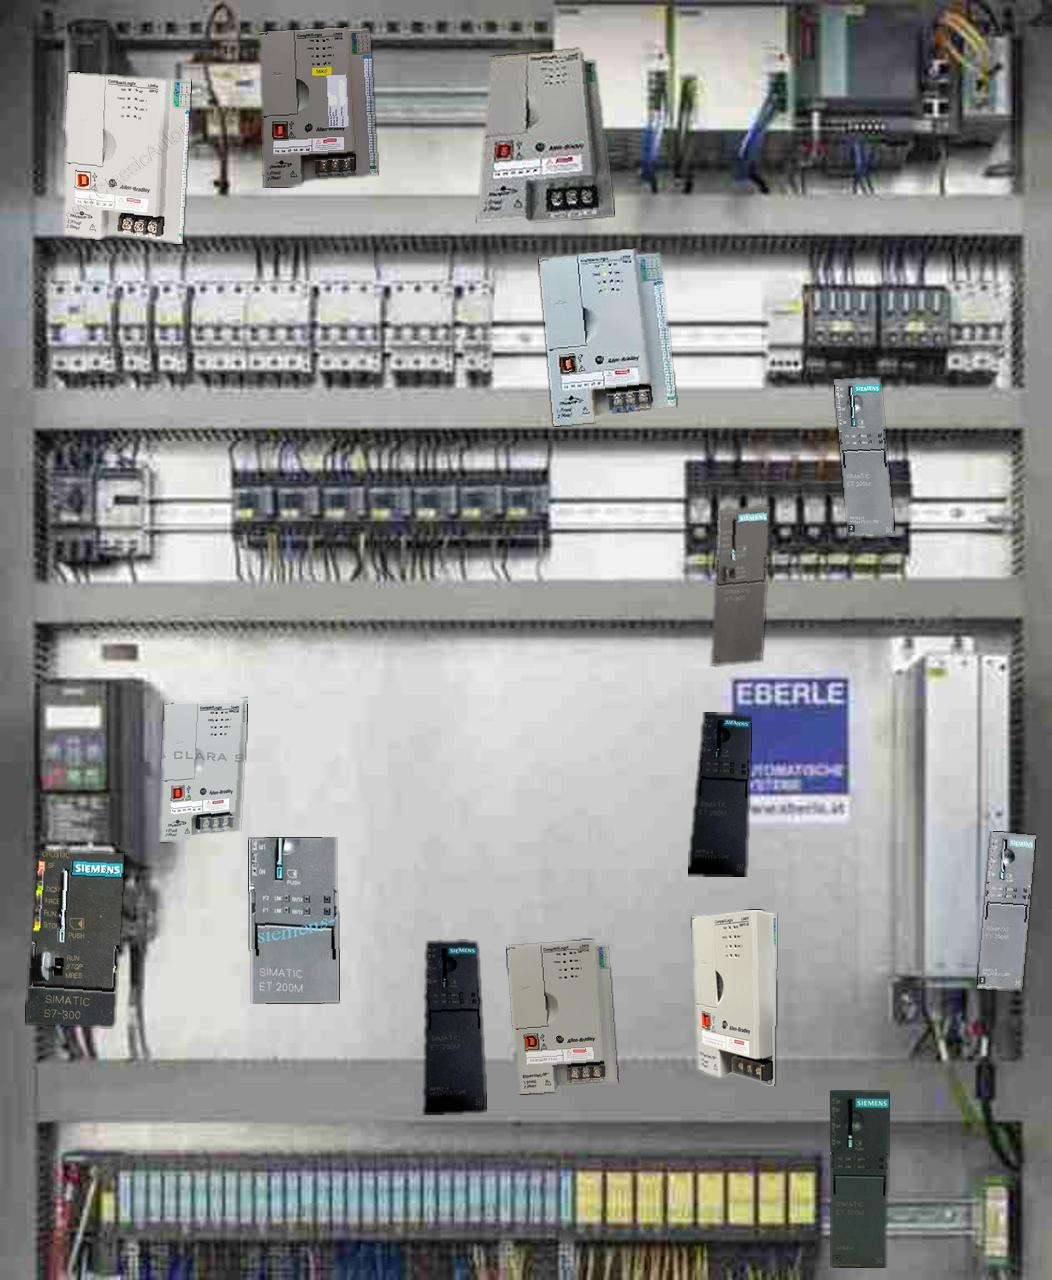AllenBradley: (539, 248, 675, 425), (477, 49, 613, 222), (64, 72, 190, 243), (259, 27, 377, 187), (507, 940, 617, 1093), (692, 910, 775, 1085), (160, 698, 247, 841)
Siemens: (26, 850, 124, 1026), (711, 506, 769, 666)
